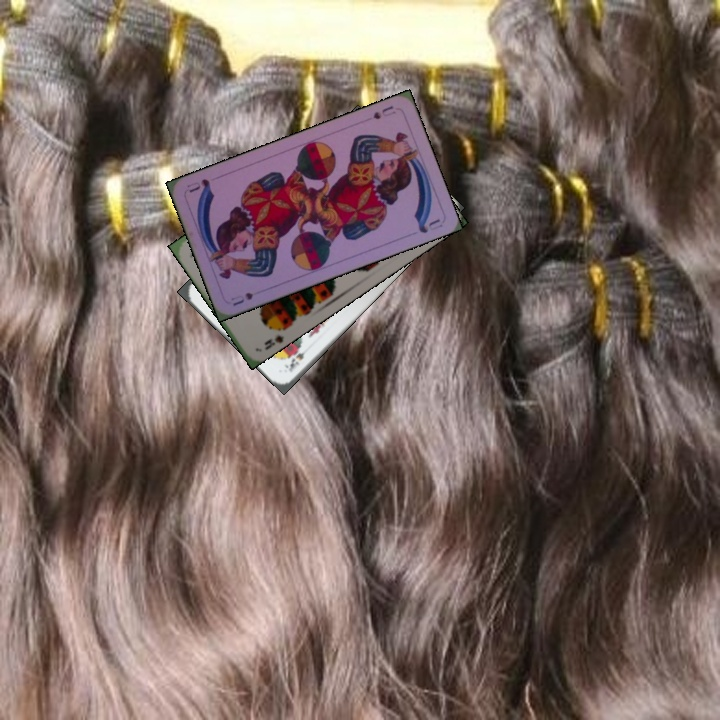S9: (260, 320, 291, 353)
SK: (280, 342, 314, 375)
SU: (227, 288, 256, 309), (369, 102, 398, 122)
